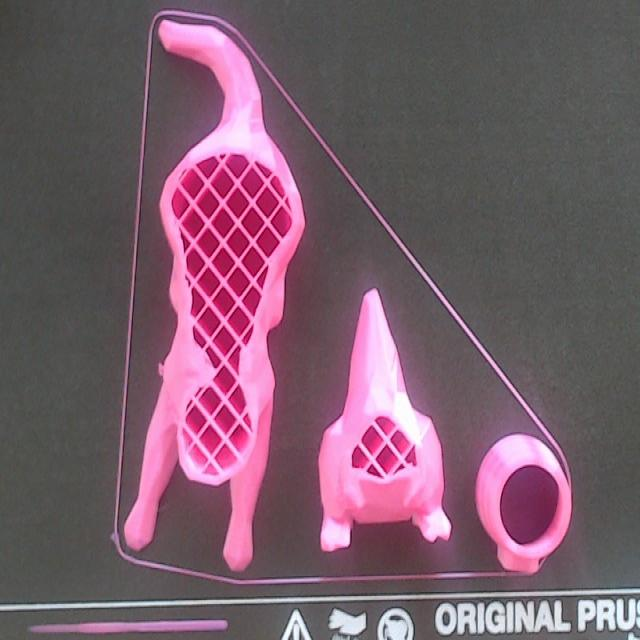mistake: (158, 363, 163, 376)
